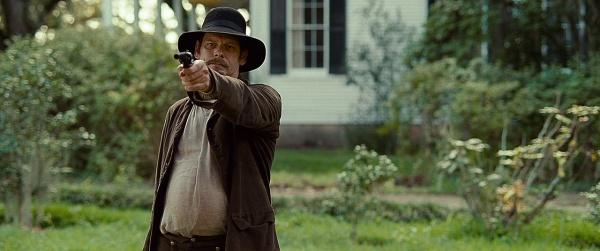Gun: (175, 51, 195, 67)
